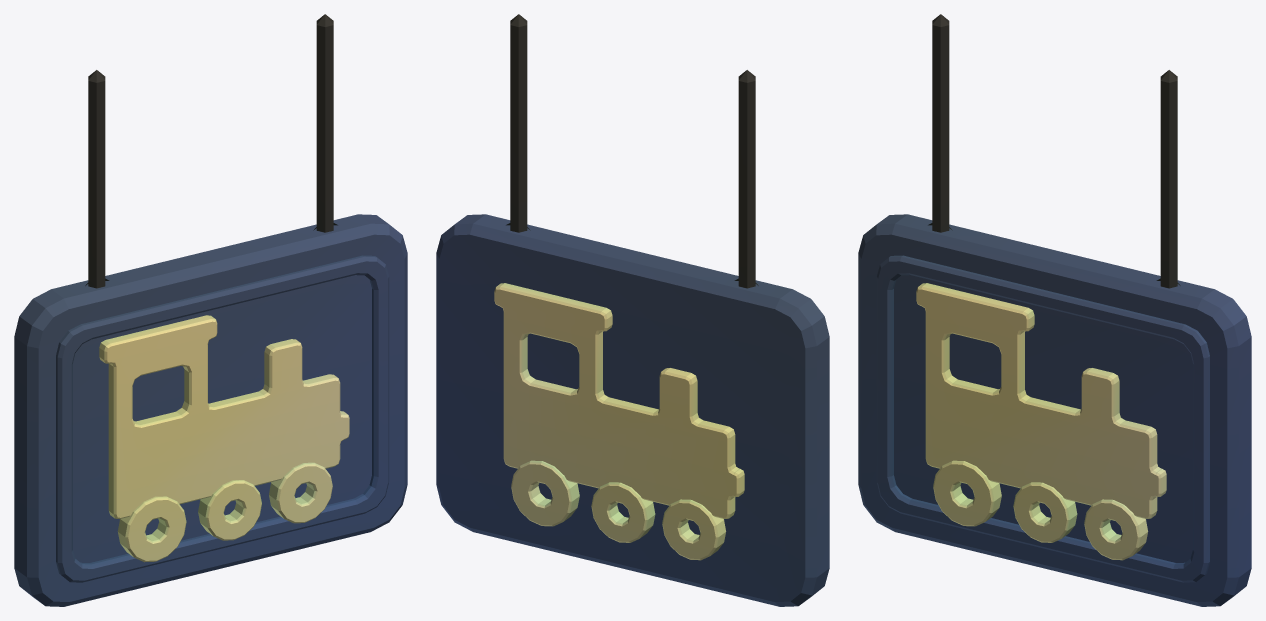
File: Prop_HangingSign.glb
3 renders of one model, left to right at view 1: azimuth 30°, elevation 25°; view 2: azimuth 150°, elevation 25°; view 3: azimuth 330°, elevation 25°, orthographic.
Parts seen in each view (by area): view 1: Prop_HangingSign; view 2: Prop_HangingSign; view 3: Prop_HangingSign.
Boxes of the visible parts, x1,y1,x2,y2 form: Prop_HangingSign: [14, 14, 407, 606]; Prop_HangingSign: [436, 14, 829, 606]; Prop_HangingSign: [858, 14, 1251, 606].
Size of the model in its own units: 0.62 by 0.814 by 0.108.
